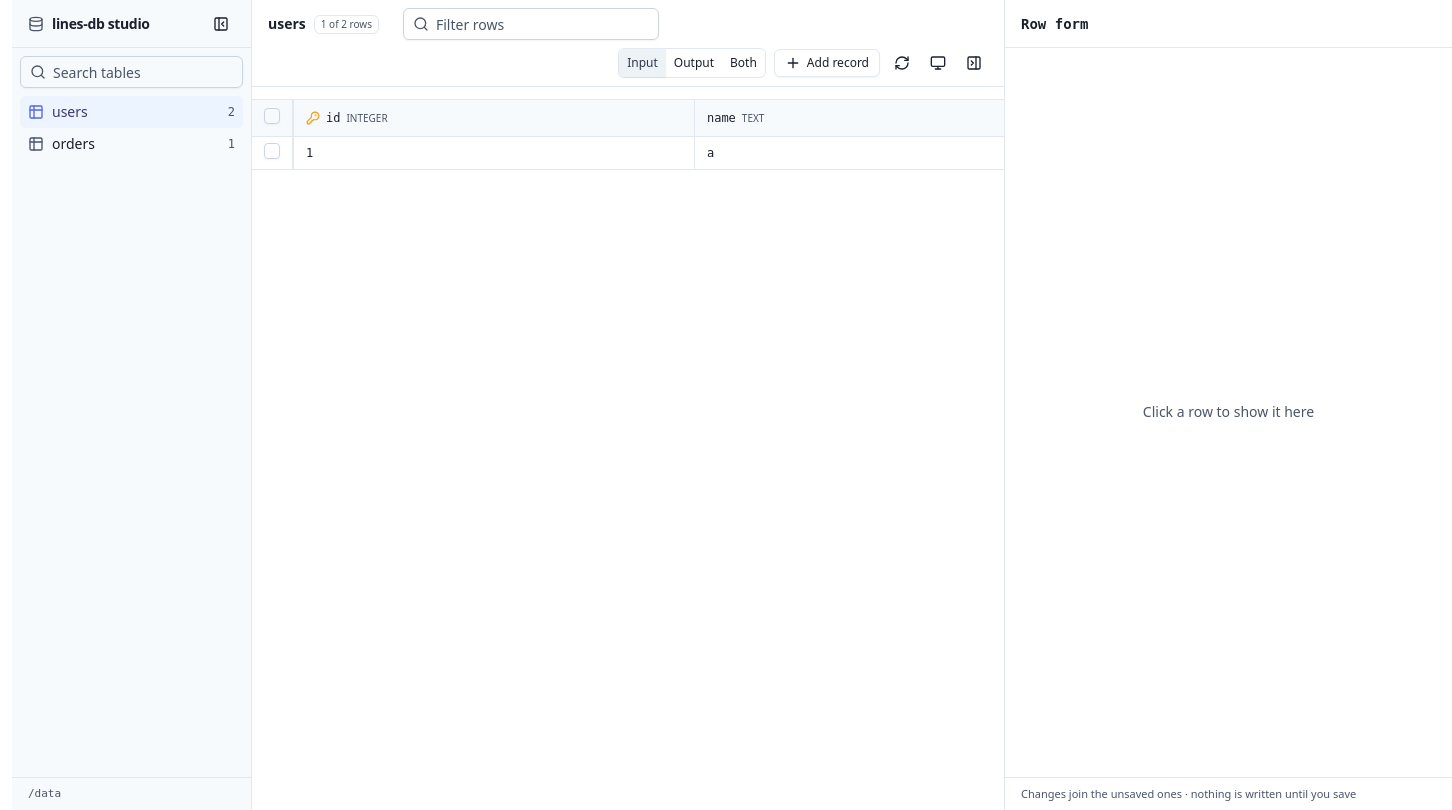
it: App › a table whose schema transforms a value › shows the output read-only when the view is Output
This screenshot has width=1452, height=810.
Click the button "Output" at (694, 63), box x1=666 y1=49 x2=722 y2=77
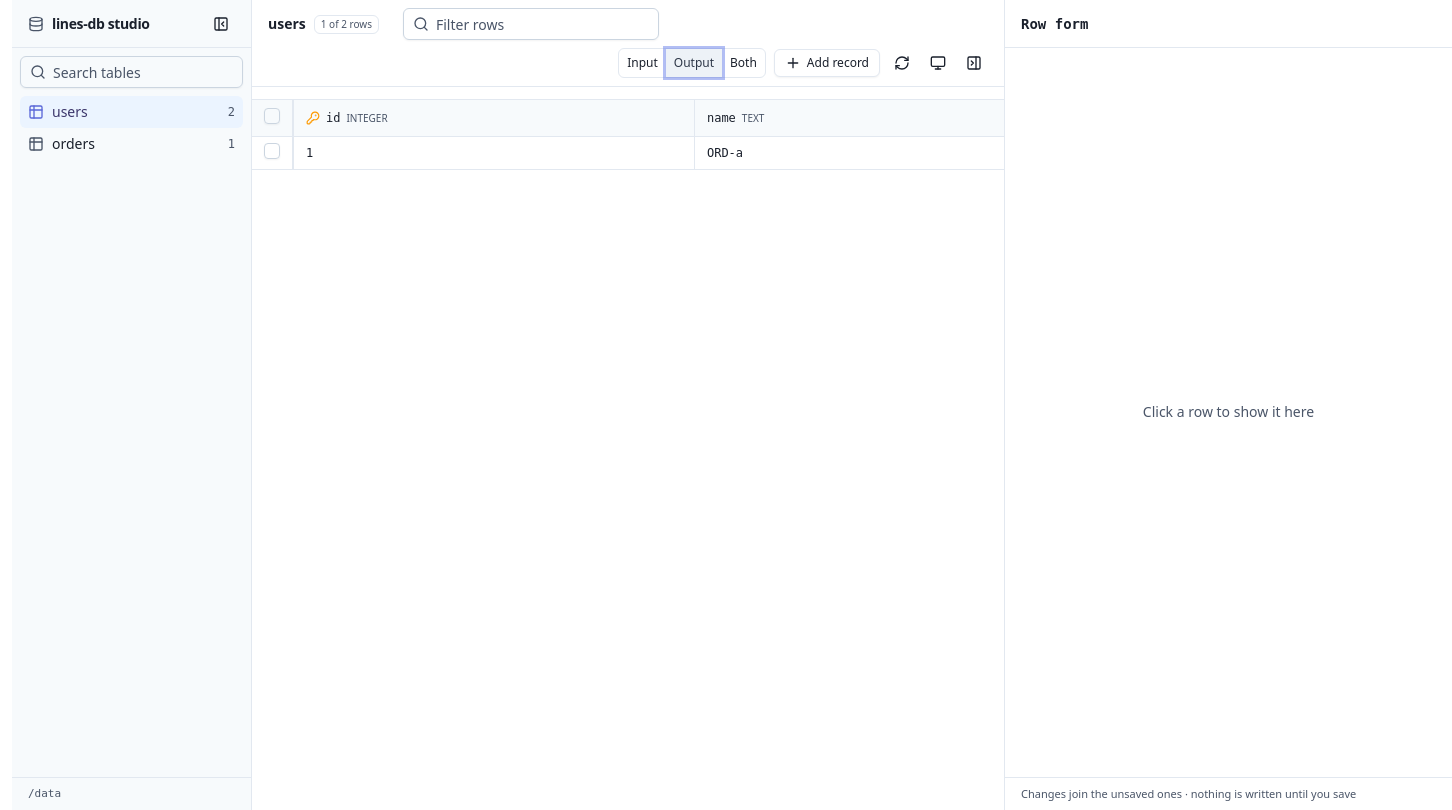
Now the text "ORD-a" is shown, box x1=707 y1=146 x2=743 y2=160
